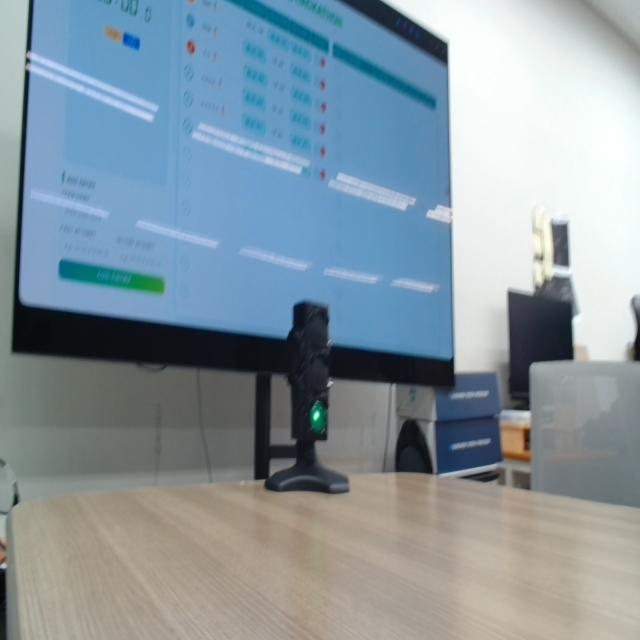green_light: (310, 401, 326, 434)
